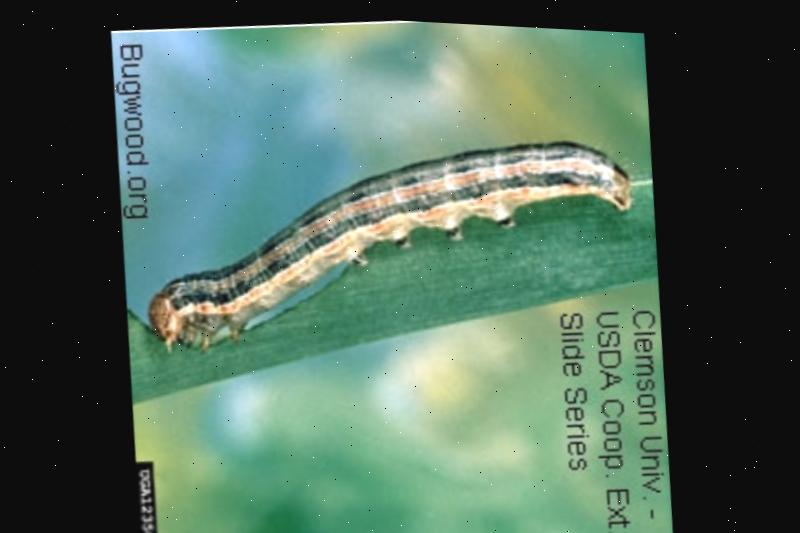fall-armyworm: (150, 133, 634, 352)
